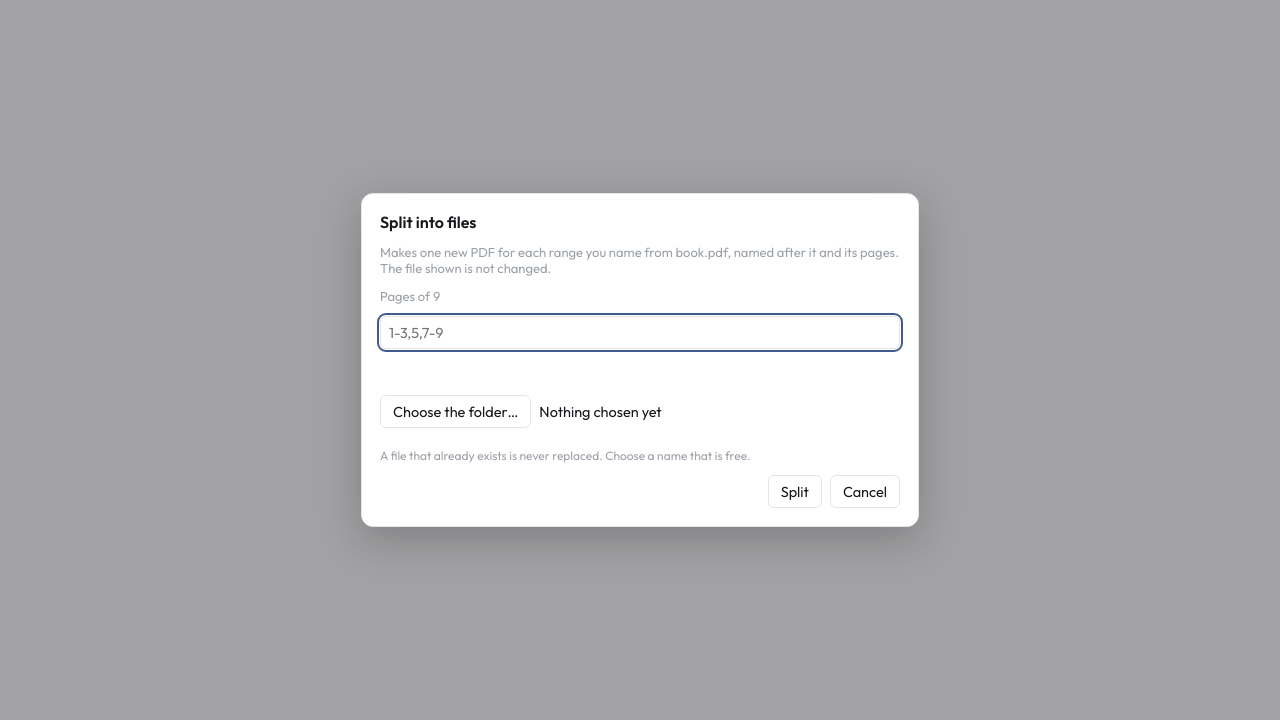
it: split_writes_one_file_for_each_range_into_the_folder_chosen
The width and height of the screenshot is (1280, 720).
Type "1-3, 5" into the field labelled "Pages of 9". click: [640, 332]
box: left=380, top=316, right=900, bottom=349
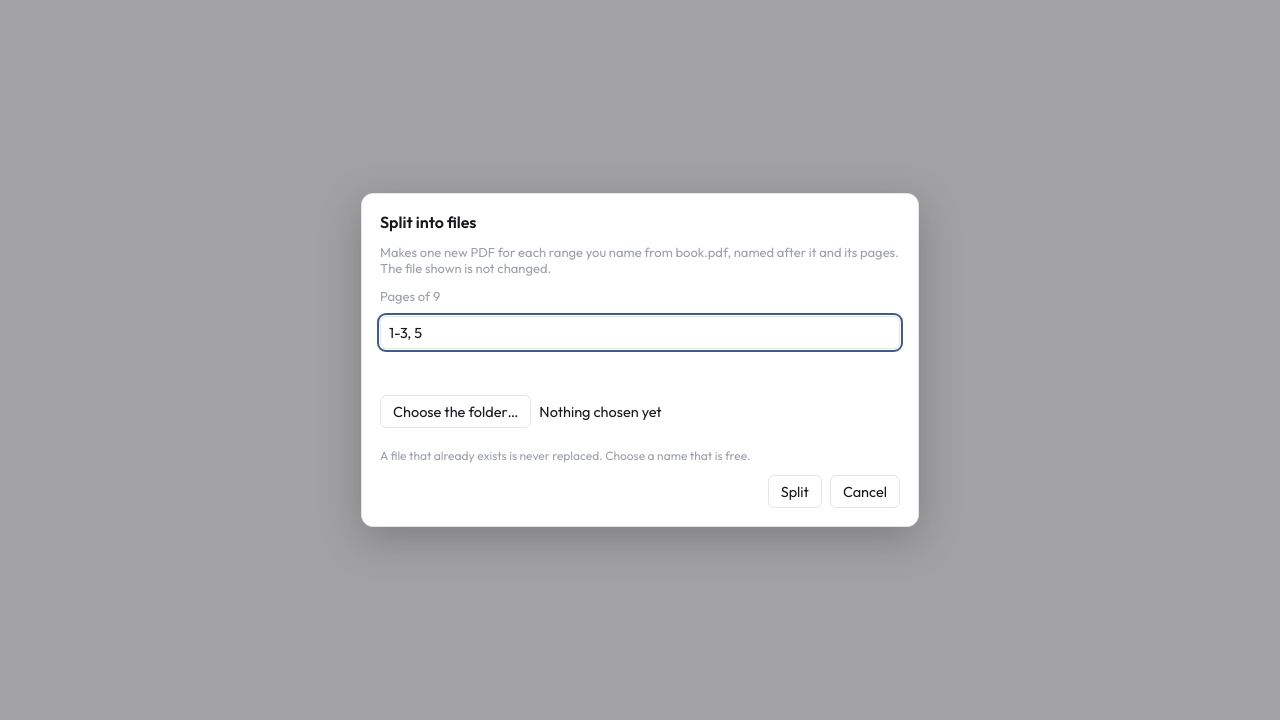
Click the button "Choose the folder…". click: [456, 412]
box: left=380, top=395, right=531, bottom=428
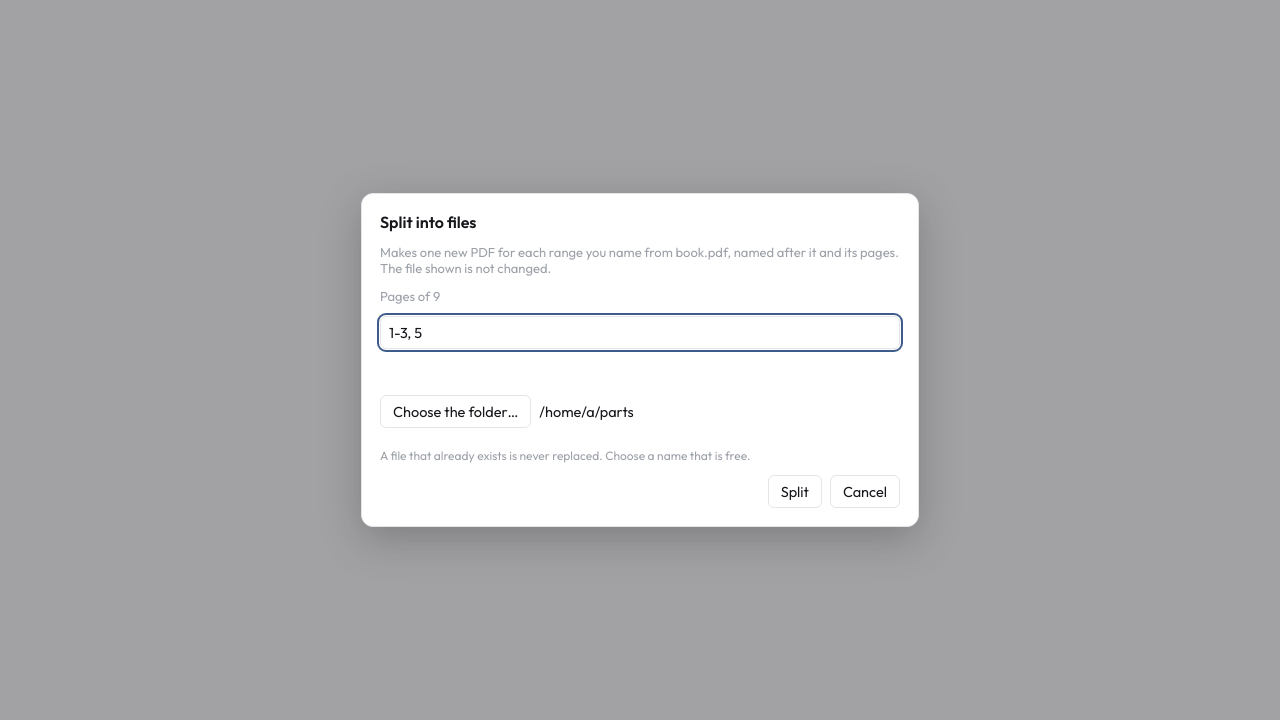
Expected: the text with test id "pdf-job-target" no longer shows "Nothing", left=539, top=402, right=634, bottom=421
Click the button "Split". click: [795, 492]
box: left=768, top=475, right=822, bottom=508
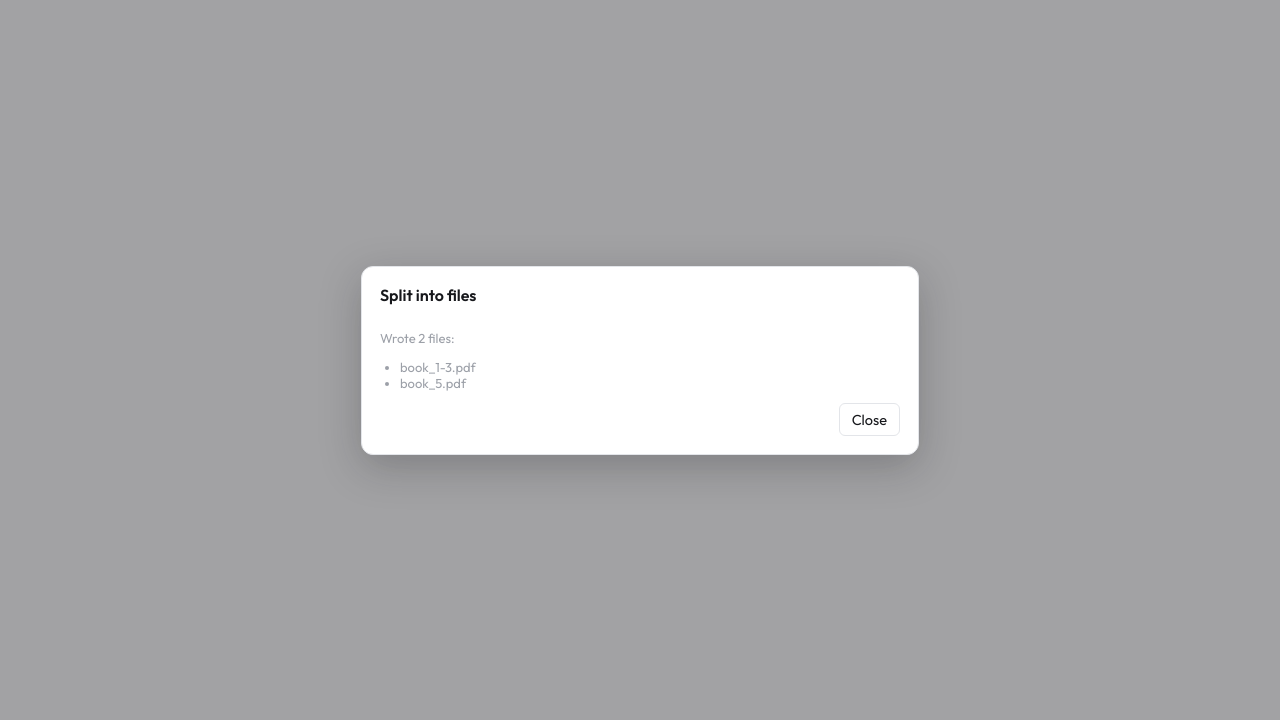
Expected: the message "Wrote 2 files: book_1-3.pdf book_5.pdf" is shown, left=380, top=330, right=476, bottom=390
Expected: the message with test id "pdf-job-done" shows "Wrote 2 files:", left=380, top=330, right=454, bottom=346
Expected: the message with test id "pdf-job-done" shows "book_1-3.pdf", left=400, top=358, right=476, bottom=374
